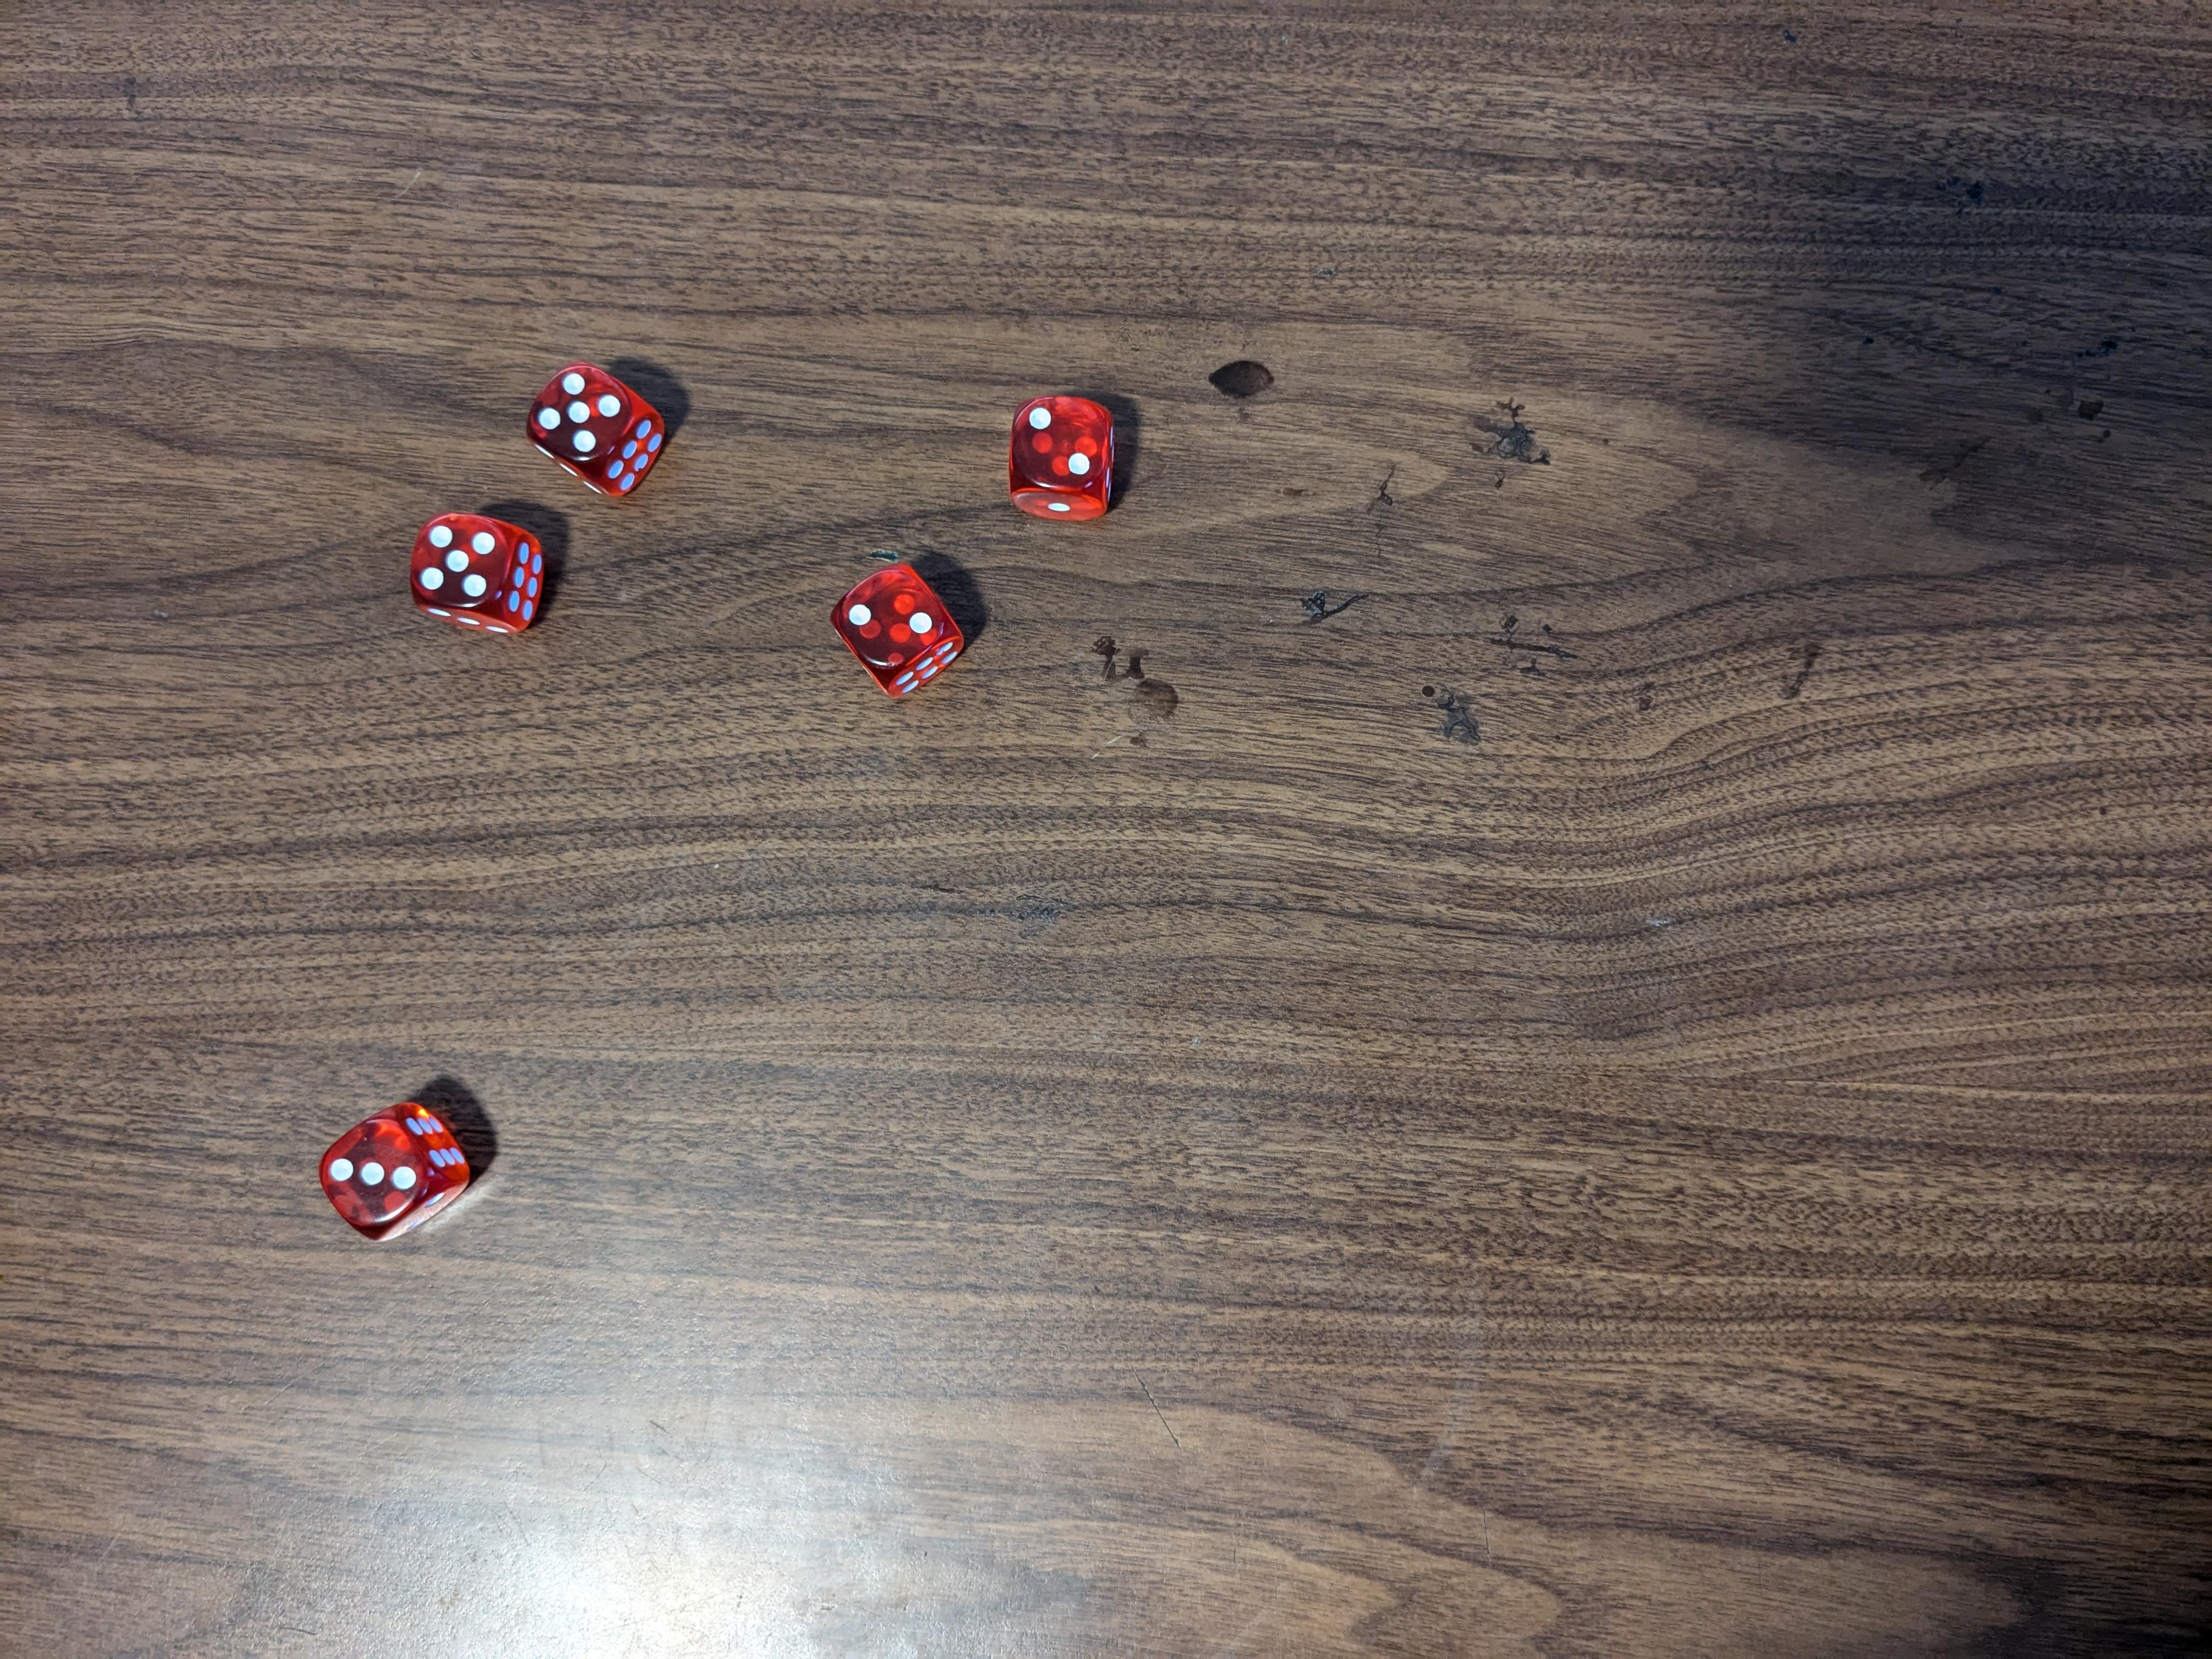five: (521, 359, 678, 498), (408, 505, 559, 643)
three: (317, 1105, 474, 1243)
two: (834, 563, 967, 701), (1005, 396, 1125, 526)
